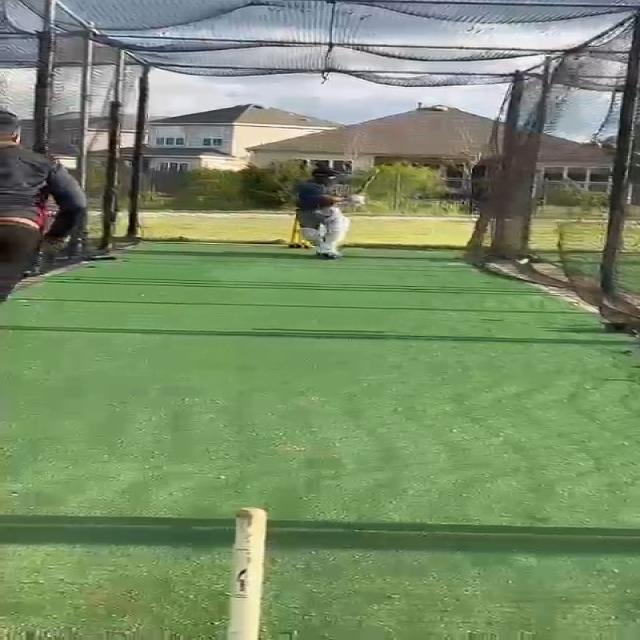batsman: (293, 166, 380, 260)
